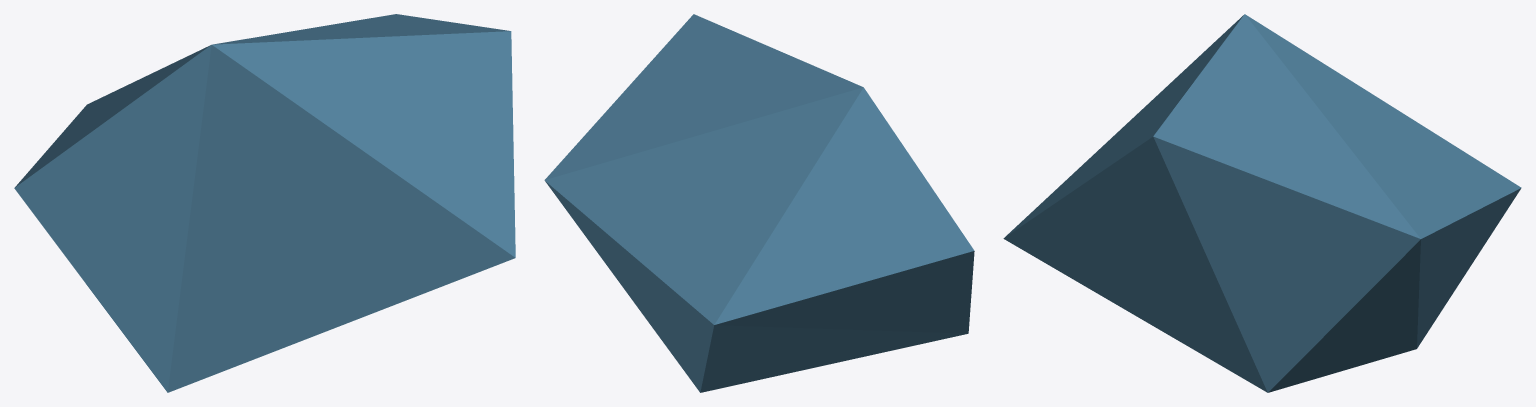
The model's file is Blue_Planet_Ring_02_Asteroid.fbx.
The picture shows the model from 3 angles, left to right: view 1: azimuth 30°, elevation 25°; view 2: azimuth 150°, elevation 25°; view 3: azimuth 270°, elevation 25°; orthographic projection. The views are drawn at different scales.
Parts seen in each view (by area): view 1: Blue_Planet_Ring_02_Asteroid; view 2: Blue_Planet_Ring_02_Asteroid; view 3: Blue_Planet_Ring_02_Asteroid.
Part boxes in pixels (bbox=[...]): Blue_Planet_Ring_02_Asteroid: bbox=[14, 14, 515, 392]; Blue_Planet_Ring_02_Asteroid: bbox=[544, 14, 974, 392]; Blue_Planet_Ring_02_Asteroid: bbox=[1003, 14, 1521, 392].
Size of the model in its own units: 860 by 584 by 944.
